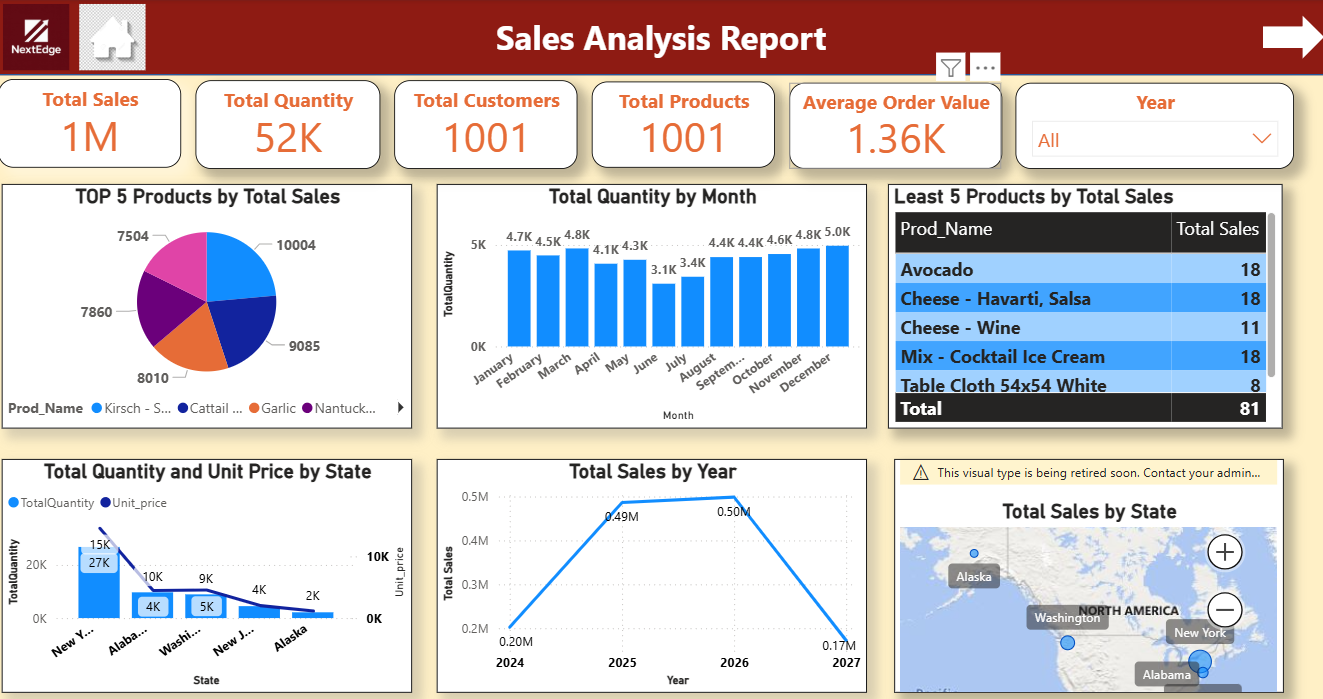

This screenshot's page, from the dashboard's own definition file:
{"tool":"powerbi","page":{"name":"Sales Analysis","canvas":[1280,720],"ordinal":1},"visuals":[{"type":"shape","box":[0,0,1280,73.6],"z":0},{"type":"image","box":[0,0,73.6,73.6],"z":1000},{"type":"image","box":[73,0,74,74],"z":2000},{"type":"shape","box":[1220.9,15.7,59.1,42.2],"z":3000},{"type":"pieChart","title":"TOP 5 Products by Total Sales","fields":{"Category":["Dim_Product.Prod_Name"],"Y":["New_Measures.Total Sales"]},"box":[3.8,178.3,396.3,236],"z":4000},{"type":"columnChart","title":"Total Quantity by Month","fields":{"Y":["New_Measures.TotalQuantity"],"Category":["Dim_Date.Date.Variation.Date Hierarchy.Month"]},"box":[423.2,178.3,415.6,236],"z":5000},{"type":"tableEx","title":"Least 5 Products by Total Sales ","fields":{"Values":["Dim_Product.Prod_Name","New_Measures.Total Sales"]},"box":[859.3,178.3,380.9,236],"z":6000},{"type":"lineStackedColumnComboChart","title":"Total Quantity and Unit Price by State","fields":{"Y":["New_Measures.TotalQuantity"],"Category":["Dim_Geography.State"],"Y2":["Sum(Fact_Sales.Unit_price)"]},"box":[3.8,443.8,396.3,225.7],"z":7000},{"type":"map","fields":{"Size":["New_Measures.Total Sales"],"Category":["Dim_Geography.State"]},"box":[864.4,443.8,375.8,225.7],"z":8000},{"type":"card","title":"Total Sales","fields":{"Values":["New_Measures.Total Sales"]},"box":[0,77,177,85.9],"z":9000},{"type":"card","title":"Total Quantity","fields":{"Values":["New_Measures.TotalQuantity"]},"box":[190.5,78.2,178.3,85.9],"z":10000},{"type":"card","title":"Total Customers","fields":{"Values":["New_Measures.Total Costumers"]},"box":[382.3,78.2,177,85.9],"z":10001},{"type":"card","title":"Total Products","fields":{"Values":["New_Measures.Total Products"]},"box":[572.8,79.5,177,83.4],"z":10002},{"type":"card","title":"Average Order Value","fields":{"Values":["New_Measures.Average Order Value"]},"box":[763.3,80.8,205.2,83.4],"z":10003},{"type":"lineChart","fields":{"Y":["New_Measures.Total Sales"],"Category":["Dim_Date.Date.Variation.Date Hierarchy.Year"]},"box":[423.2,443.8,415.6,225.7],"z":10004},{"type":"slicer","title":"Year","fields":{"Values":["Dim_Date.Date.Variation.Date Hierarchy.Year"]},"box":[982,80.8,269,83.2],"z":10005}]}

Visuals, with their boxes on the page's 1280x720 design canvas (x1, y1, x2, y2). These are canvas units, not pixel positions in the 1323x699 screenshot, which may show the page scaled, cropped or inside an application window:
shape: {"left": 0, "top": 0, "right": 1280, "bottom": 74}
image: {"left": 0, "top": 0, "right": 74, "bottom": 74}
image: {"left": 73, "top": 0, "right": 147, "bottom": 74}
shape: {"left": 1221, "top": 16, "right": 1280, "bottom": 58}
"TOP 5 Products by Total Sales" pieChart: {"left": 4, "top": 178, "right": 400, "bottom": 414}
"Total Quantity by Month" columnChart: {"left": 423, "top": 178, "right": 839, "bottom": 414}
"Least 5 Products by Total Sales " tableEx: {"left": 859, "top": 178, "right": 1240, "bottom": 414}
"Total Quantity and Unit Price by State" lineStackedColumnComboChart: {"left": 4, "top": 444, "right": 400, "bottom": 670}
map - New_Measures.Total Sales x Dim_Geography.State: {"left": 864, "top": 444, "right": 1240, "bottom": 670}
"Total Sales" card: {"left": 0, "top": 77, "right": 177, "bottom": 163}
"Total Quantity" card: {"left": 190, "top": 78, "right": 369, "bottom": 164}
"Total Customers" card: {"left": 382, "top": 78, "right": 559, "bottom": 164}
"Total Products" card: {"left": 573, "top": 80, "right": 750, "bottom": 163}
"Average Order Value" card: {"left": 763, "top": 81, "right": 968, "bottom": 164}
lineChart - New_Measures.Total Sales x Dim_Date.Date.Variation.Date Hierarchy.Year: {"left": 423, "top": 444, "right": 839, "bottom": 670}
"Year" slicer: {"left": 982, "top": 81, "right": 1251, "bottom": 164}
